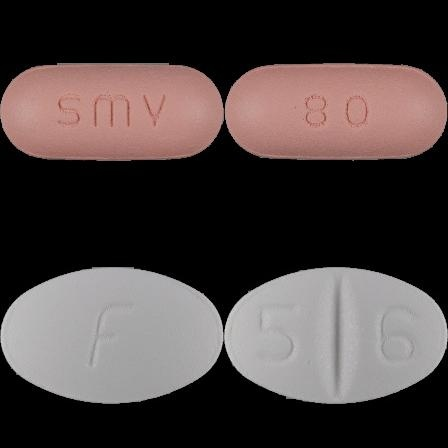68788-9429: (0, 0, 224, 224)
